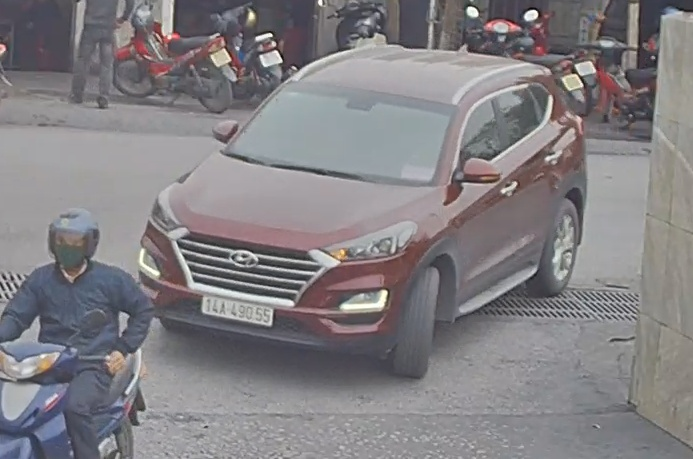vehicle plate: (197, 288, 275, 331)
